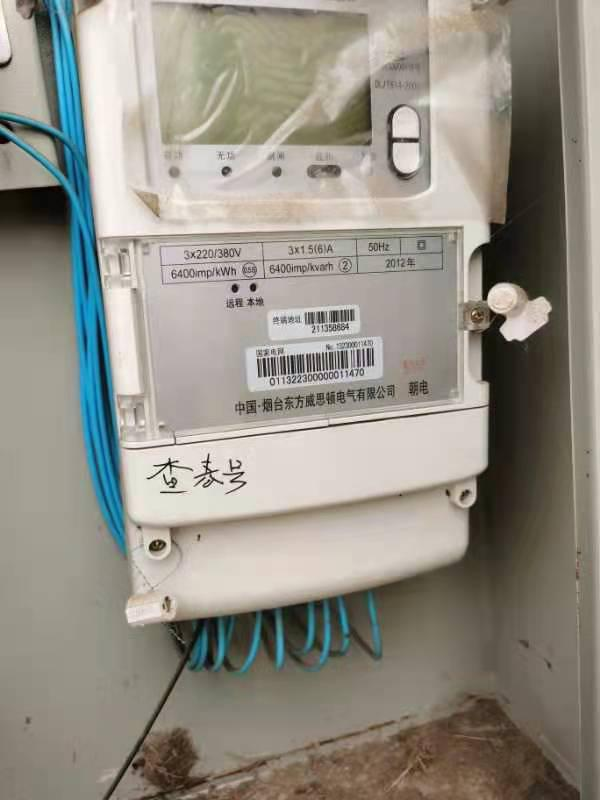digital: (110, 1, 494, 524)
